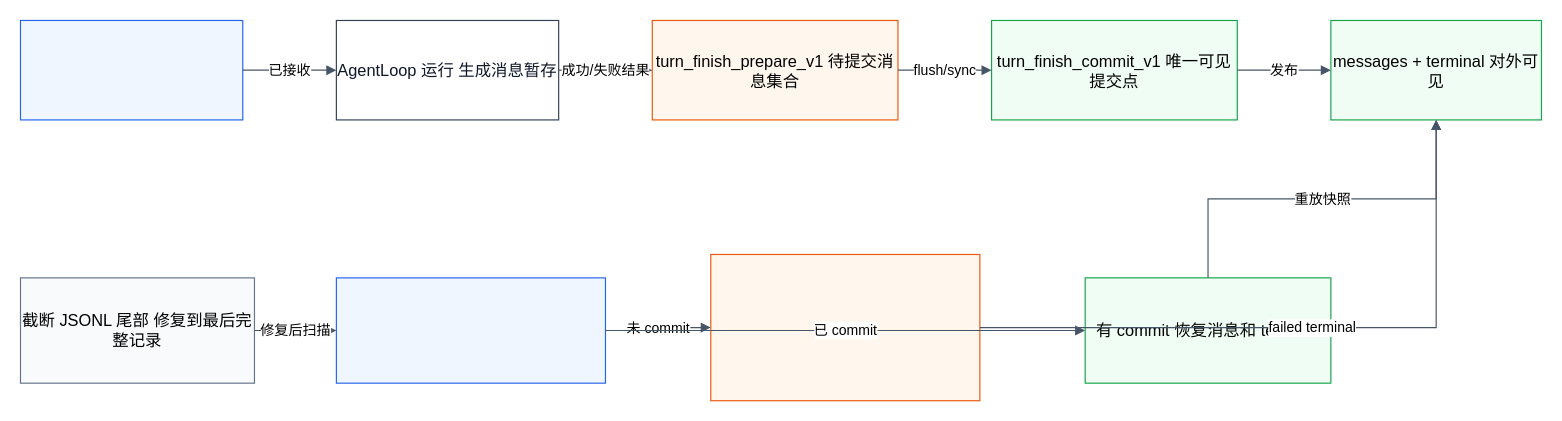
This 1562x421 diagram has some shape labels left out. The box of each missing label's shape, as (x1, y1, x2, y2) in pixels:
Host 启动轻量扫描 所有 session 尾状态: (335, 277, 605, 383)
turn_accept_v1 requestID + user: (19, 19, 243, 120)
有 prepare 无 commit 回滚未提交生成消息 闭合为 failed: (710, 253, 980, 401)
